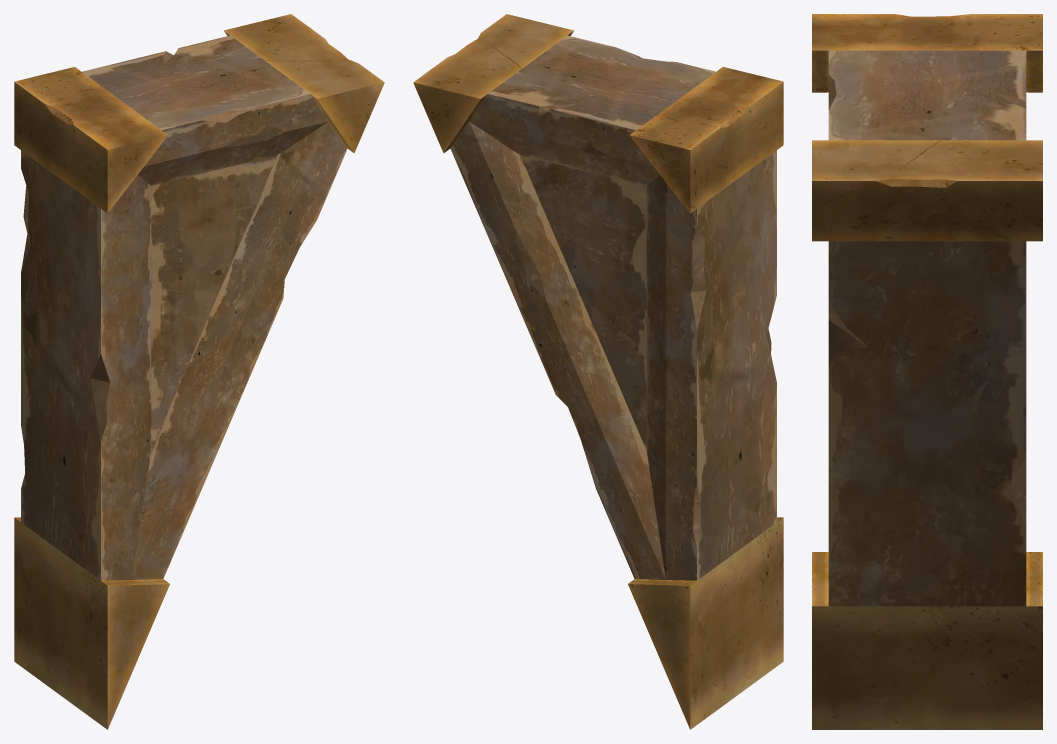
3 views of the same model, side by side, from view 1: azimuth 30°, elevation 25°; view 2: azimuth 150°, elevation 25°; view 3: azimuth 270°, elevation 25° (orthographic). The views are drawn at different scales.
Parts seen in each view (by area): view 1: SM_Vault_Corner_Frame_01_LOD0; view 2: SM_Vault_Corner_Frame_01_LOD0; view 3: SM_Vault_Corner_Frame_01_LOD0.
Boxes of the visible parts, left/top/right/bottom form: SM_Vault_Corner_Frame_01_LOD0: left=14, top=14, right=384, bottom=729; SM_Vault_Corner_Frame_01_LOD0: left=413, top=14, right=783, bottom=729; SM_Vault_Corner_Frame_01_LOD0: left=812, top=14, right=1042, bottom=729.
Bounding box in the file's own units: 1 × 2 × 0.5846.
Materials: 2 (2 with a texture image).
